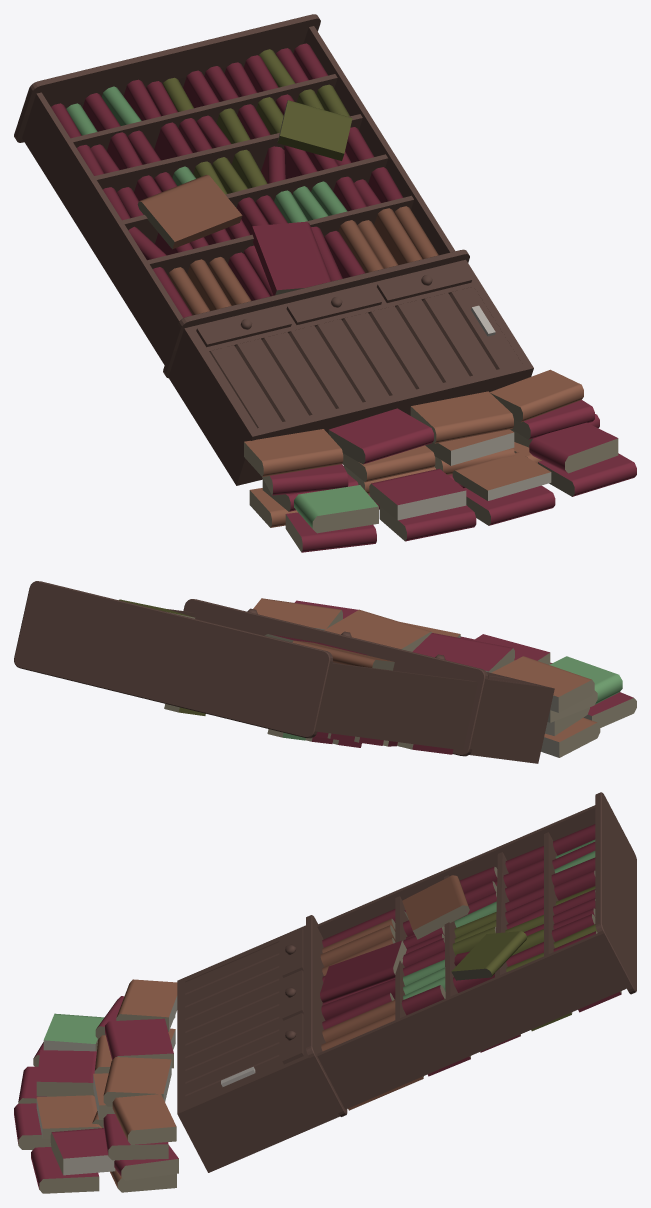
Rendered from stairs_fallen_shelf.gltf.
3 views of the same model, one above another, from view 1: azimuth 30°, elevation 25°; view 2: azimuth 150°, elevation 25°; view 3: azimuth 270°, elevation 25° (orthographic). The views are drawn at different scales.
Visible parts, largest first — view 1: Cube.168, Cube.170, Cube.160, Cube.165, Cube.169, Cube.172, Cube.149, Cube.171, Cube.166, Cube.059, Cube.067, Cube.056 (+39 smaller); view 2: Cube.165, Cube.160, Cube.166, Cube.170, Cube.054, Cube.067, Cube.059, Cube.073, Cube.051, Cube.050, Cube.060, Cube.172 (+4 smaller); view 3: Cube.171, Cube.170, Cube.168, Cube.165, Cube.160, Cube.169, Cube.166, Cube.149, Cube.056, Cube.172, Cube.073, Cube.067 (+29 smaller).
Part boxes in pixels (bbox=[...]): Cube.168: bbox=[210, 286, 521, 428]; Cube.170: bbox=[168, 259, 533, 485]; Cube.160: bbox=[22, 92, 182, 364]; Cube.165: bbox=[14, 14, 320, 142]; Cube.169: bbox=[196, 263, 471, 347]; Cube.172: bbox=[137, 175, 242, 249]; Cube.149: bbox=[250, 221, 331, 295]; Cube.171: bbox=[303, 26, 455, 255]; Cube.166: bbox=[163, 249, 469, 378]; Cube.059: bbox=[328, 408, 433, 464]; Cube.067: bbox=[410, 391, 513, 443]; Cube.056: bbox=[369, 468, 466, 520]; Cube.165: bbox=[14, 581, 332, 738]; Cube.160: bbox=[317, 663, 478, 750]; Cube.166: bbox=[183, 599, 487, 756]; Cube.170: bbox=[469, 672, 554, 763]; Cube.054: bbox=[491, 656, 594, 712]; Cube.067: bbox=[324, 609, 432, 651]; Cube.059: bbox=[412, 633, 514, 672]; Cube.073: bbox=[253, 598, 342, 630]; Cube.051: bbox=[541, 717, 600, 757]; Cube.050: bbox=[549, 656, 622, 704]; Cube.060: bbox=[584, 692, 636, 727]; Cube.172: bbox=[292, 640, 394, 670]; Cube.171: bbox=[317, 933, 626, 1109]; Cube.170: bbox=[177, 925, 339, 1172]; Cube.168: bbox=[185, 942, 279, 1106]; Cube.165: bbox=[595, 792, 636, 994]; Cube.160: bbox=[317, 805, 595, 939]; Cube.169: bbox=[282, 927, 303, 1064]; Cube.166: bbox=[306, 915, 347, 1116]; Cube.149: bbox=[320, 940, 406, 1002]; Cube.056: bbox=[36, 1050, 96, 1096]; Cube.172: bbox=[402, 875, 469, 939]; Cube.073: bbox=[112, 1094, 176, 1144]; Cube.067: bbox=[103, 1057, 171, 1106].
Bounding box in the file's own units: 2.37 × 1.78 × 3.94.
